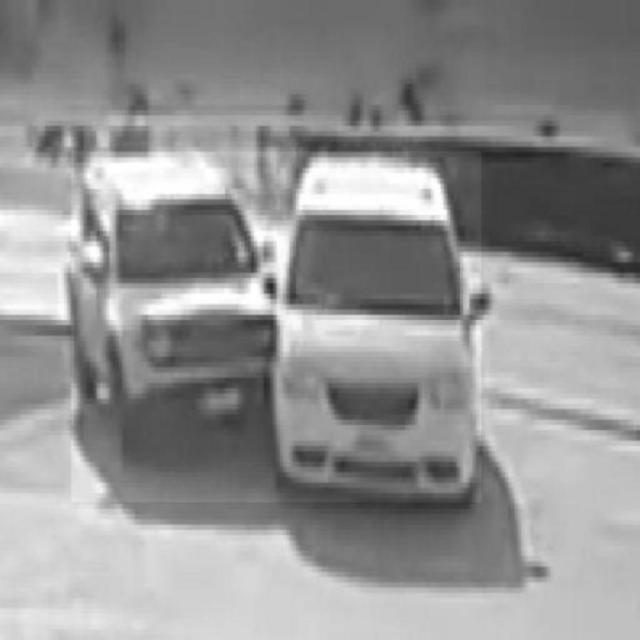accident: (71, 152, 481, 502)
